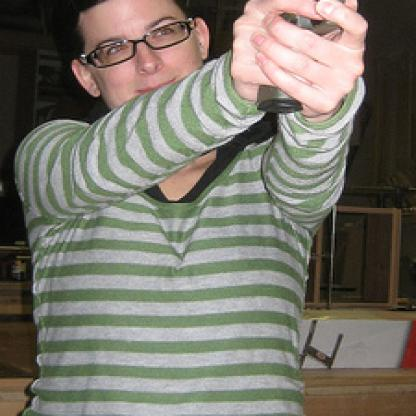gun: (242, 0, 414, 125)
